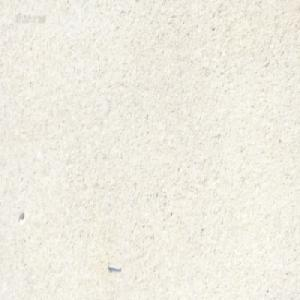Nail: (106, 261, 121, 271)
